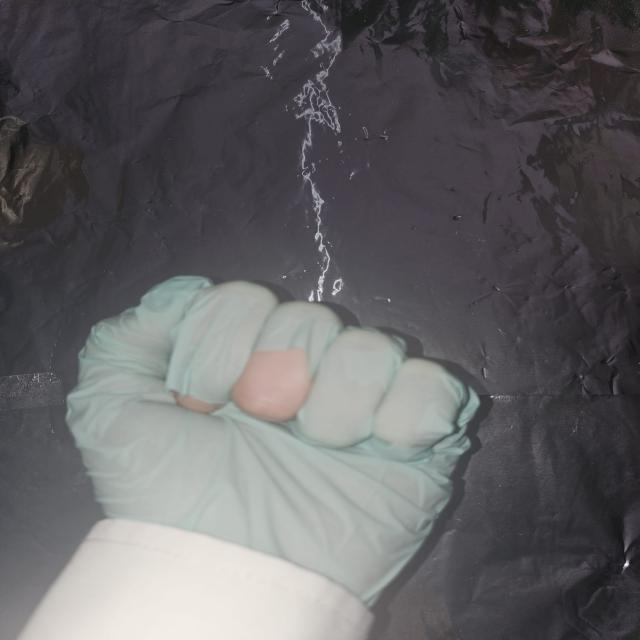gloves_damaged: (57, 276, 486, 614)
